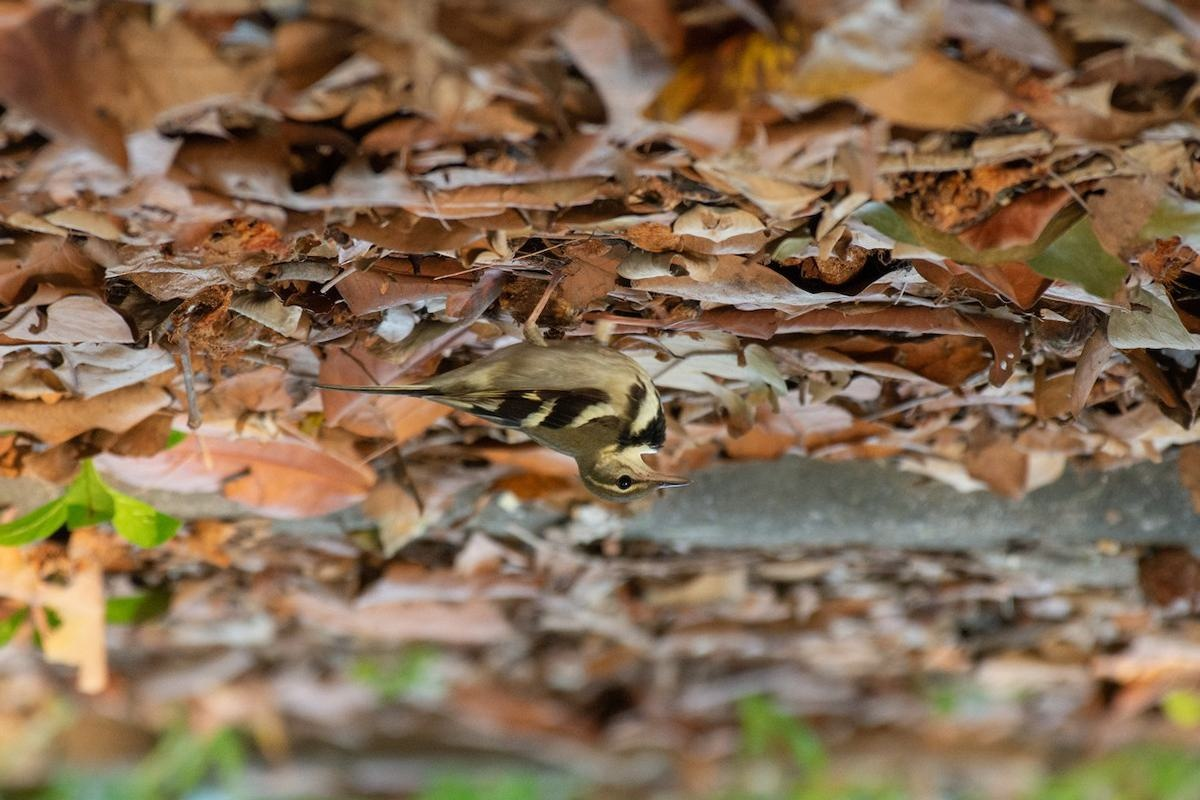wagtail: (409, 302, 726, 521)
